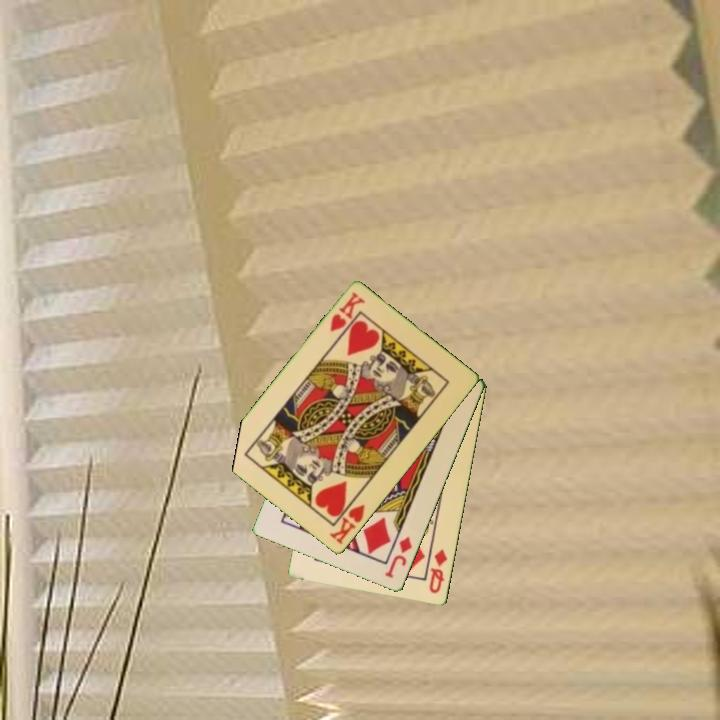Jd: (382, 533, 415, 581)
Kh: (326, 493, 368, 548), (326, 288, 368, 335)
Qd: (426, 546, 450, 597)
